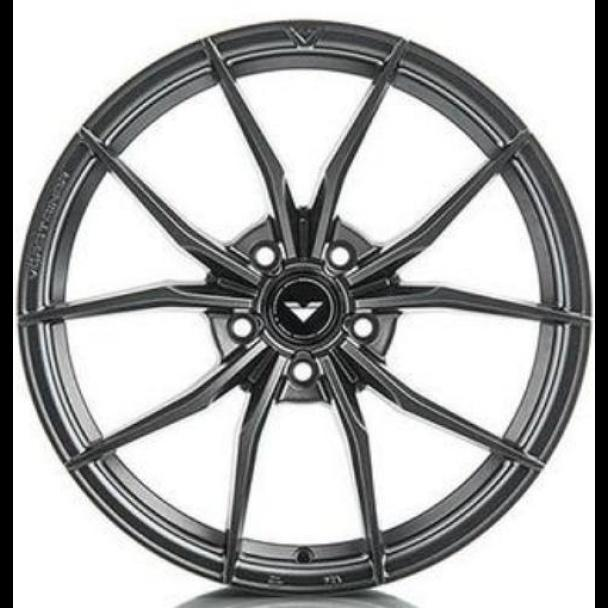hole: (348, 310, 380, 345), (287, 354, 318, 387), (327, 238, 357, 272), (228, 310, 259, 341), (249, 240, 280, 269)
